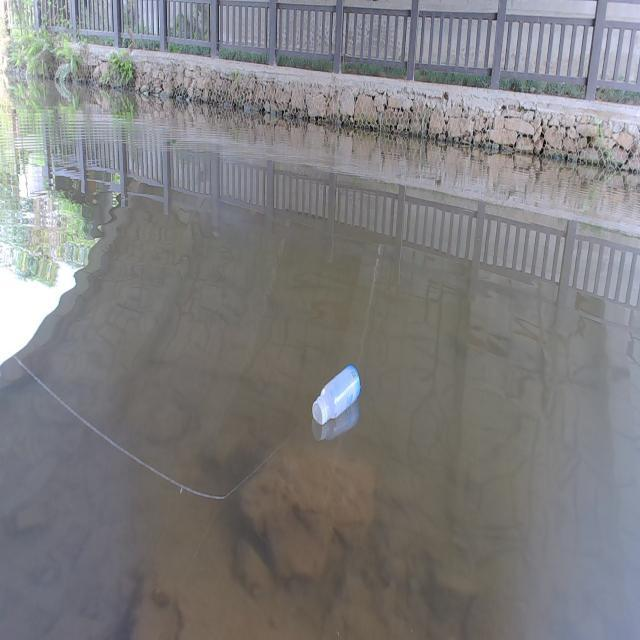bottle: (308, 359, 363, 436)
